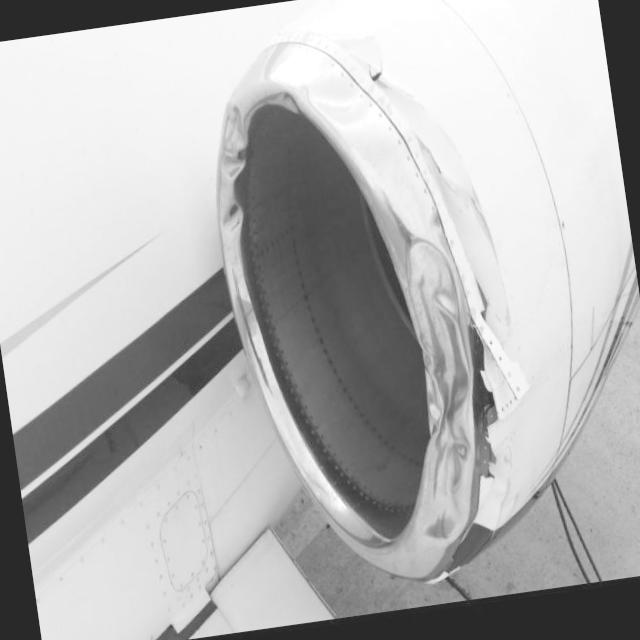dent: (400, 240, 490, 536), (202, 101, 260, 240), (305, 72, 375, 131)
